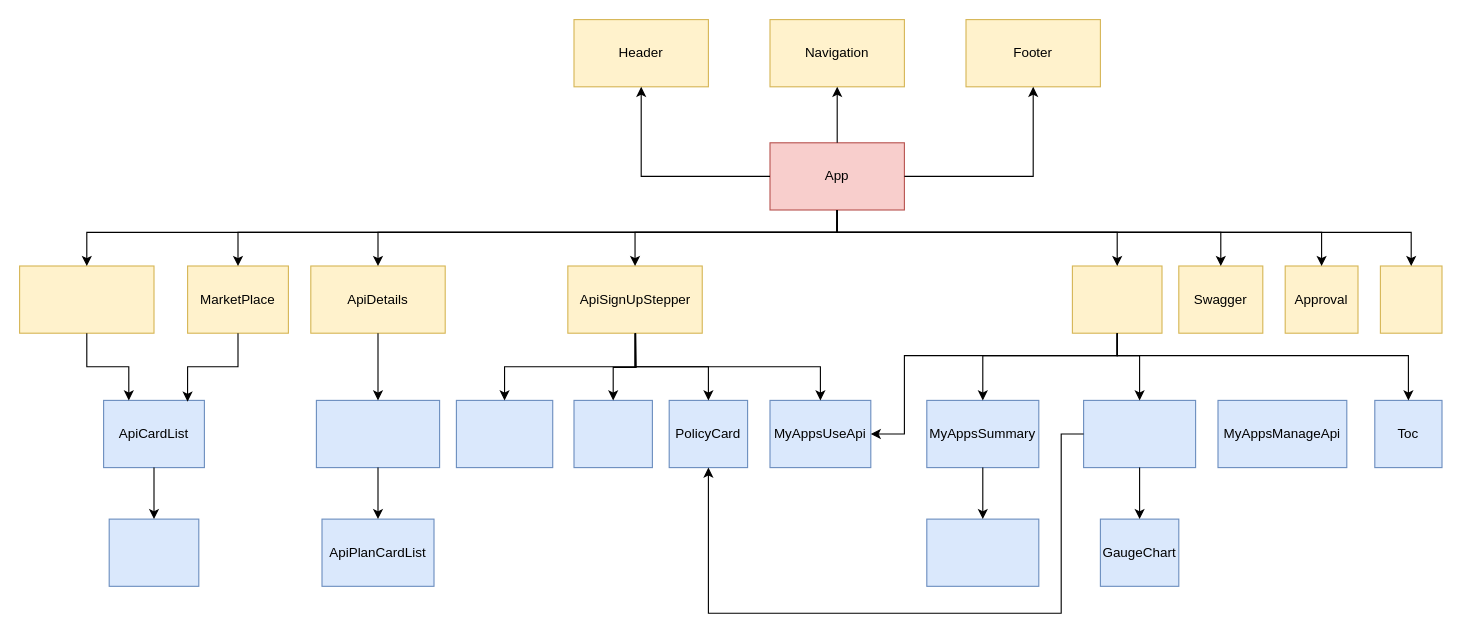
Some shapes in this 1462 by 642 pixel diagram are drawn without their labels. The centre of each missing label's shape, as x and y in pixels:
"Account" goes at point (1410, 299).
"ApiCard" goes at point (153, 552).
"ApiClientApp" goes at point (504, 433).
"ApiTerms" goes at point (612, 433).
"Home" goes at point (86, 299).
"MarketplaceApi -Description" goes at point (377, 433).
"MyApps" goes at point (1116, 299).
"MyAppsPolicies" goes at point (1139, 433).
"PolicyCardLight" goes at point (982, 552).
